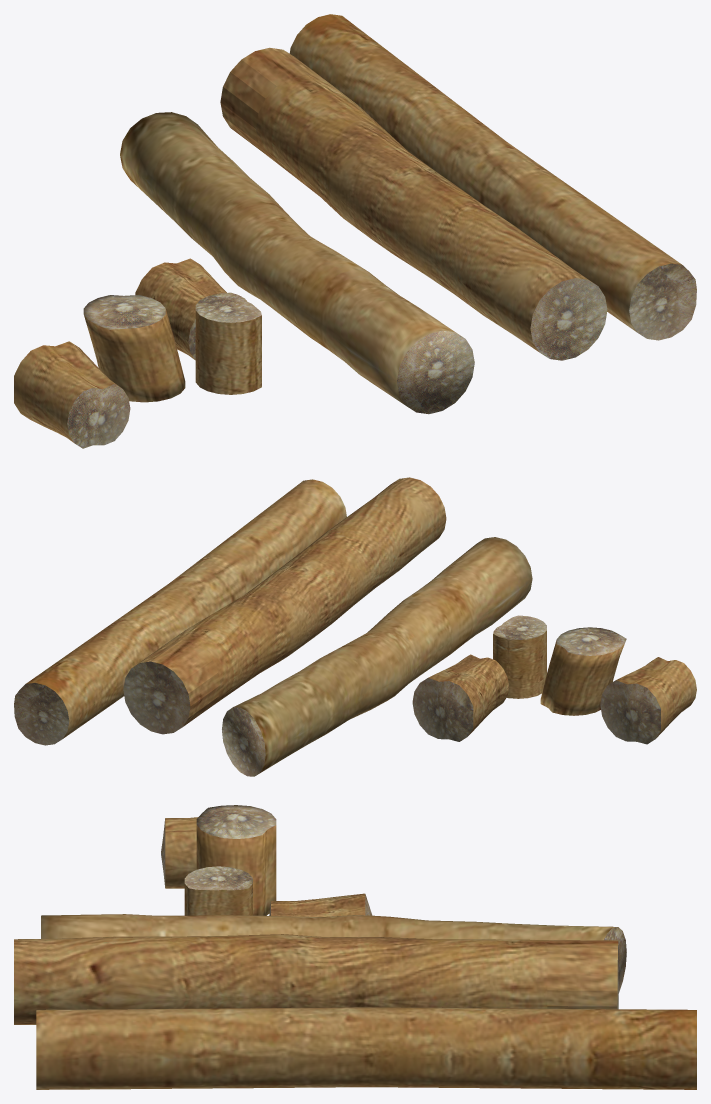
The model's file is niuxi.FBX.
3 renders of one model, top to bottom at view 1: azimuth 30°, elevation 25°; view 2: azimuth 150°, elevation 25°; view 3: azimuth 270°, elevation 25°, orthographic. The views are drawn at different scales.
Parts seen in each view (by area): view 1: Cylinder008, Cylinder009, Cylinder007, Cylinder006, Cylinder004, Cylinder005, Cylinder002; view 2: Cylinder008, Cylinder009, Cylinder007, Cylinder006, Cylinder002, Cylinder004, Cylinder005; view 3: Cylinder007, Cylinder008, Cylinder009, Cylinder004, Cylinder005, Cylinder006, Cylinder002.
Part boxes in pixels (left/top/right/bottom): Cylinder008: left=220, top=47, right=607, bottom=360; Cylinder009: left=120, top=112, right=474, bottom=414; Cylinder007: left=289, top=14, right=696, bottom=340; Cylinder006: left=14, top=341, right=130, bottom=448; Cylinder004: left=83, top=295, right=185, bottom=402; Cylinder005: left=195, top=292, right=261, bottom=394; Cylinder002: left=135, top=258, right=226, bottom=360; Cylinder008: left=123, top=477, right=446, bottom=734; Cylinder009: left=222, top=537, right=532, bottom=776; Cylinder007: left=14, top=479, right=346, bottom=745; Cylinder006: left=600, top=657, right=696, bottom=744; Cylinder002: left=412, top=654, right=509, bottom=741; Cylinder004: left=540, top=627, right=626, bottom=715; Cylinder005: left=493, top=615, right=546, bottom=698; Cylinder007: left=36, top=1007, right=696, bottom=1089; Cylinder008: left=14, top=934, right=618, bottom=1024; Cylinder009: left=41, top=914, right=626, bottom=993; Cylinder004: left=196, top=805, right=276, bottom=915; Cylinder005: left=184, top=866, right=252, bottom=915; Cylinder006: left=161, top=817, right=198, bottom=888; Cylinder002: left=269, top=893, right=372, bottom=916.
Bounding box in the file's own units: 49.89 × 11.53 × 53.61.
